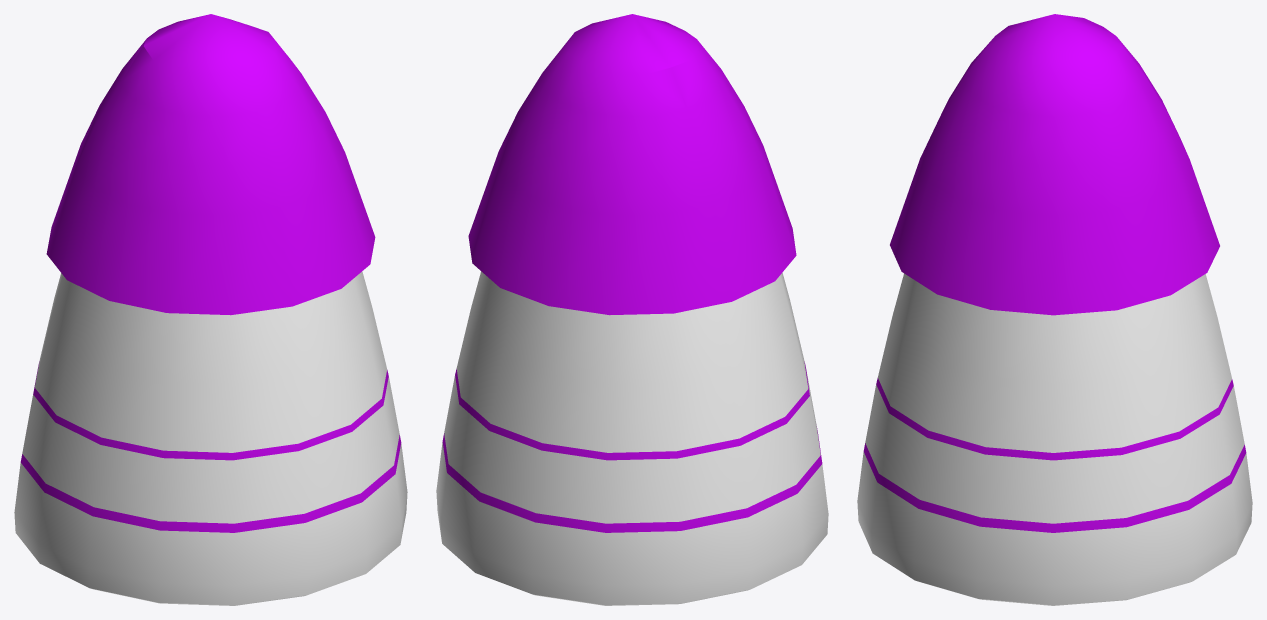
Rendered from head_lv9.fbx.
3 views of the same model, side by side, from view 1: azimuth 30°, elevation 25°; view 2: azimuth 150°, elevation 25°; view 3: azimuth 270°, elevation 25° (orthographic).
Visible parts, largest first — view 1: head_lv9-; view 2: head_lv9-; view 3: head_lv9-.
Boxes of the visible parts, x1,y1,x2,y2 form: head_lv9-: (14, 14, 407, 605); head_lv9-: (436, 14, 828, 605); head_lv9-: (857, 14, 1252, 605).
Bounding box in the file's own units: 140 × 205 × 140.
